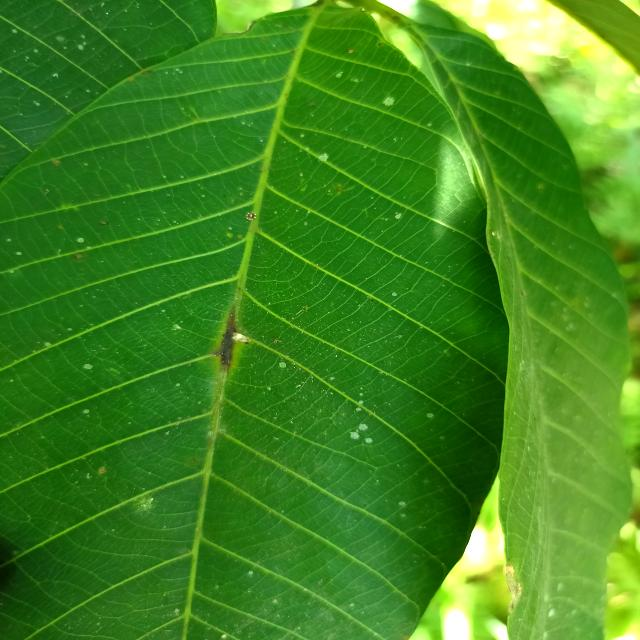Corynespora: (212, 305, 240, 367)
